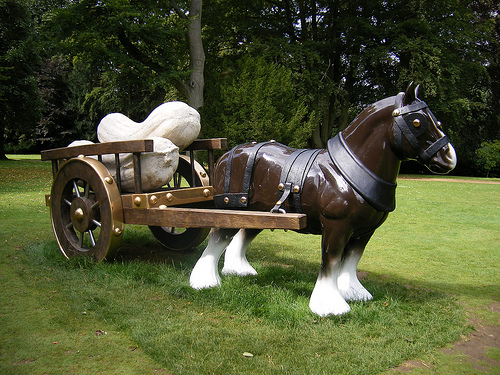background: (186, 79, 459, 320)
